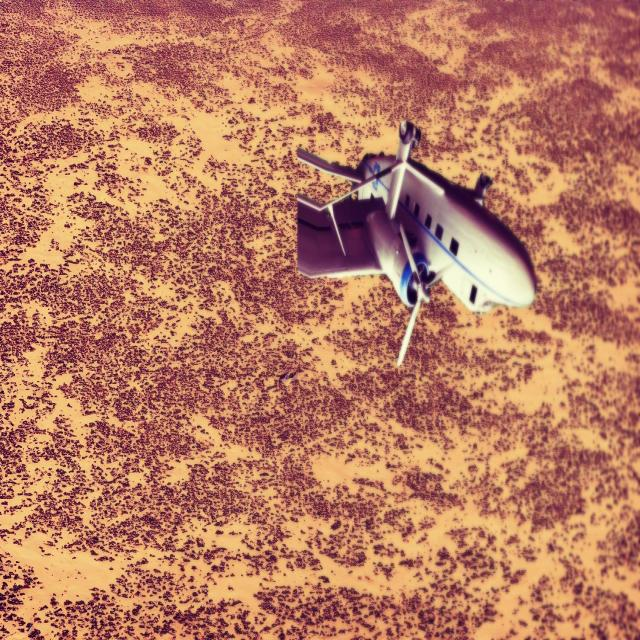airplane: (295, 118, 537, 368)
